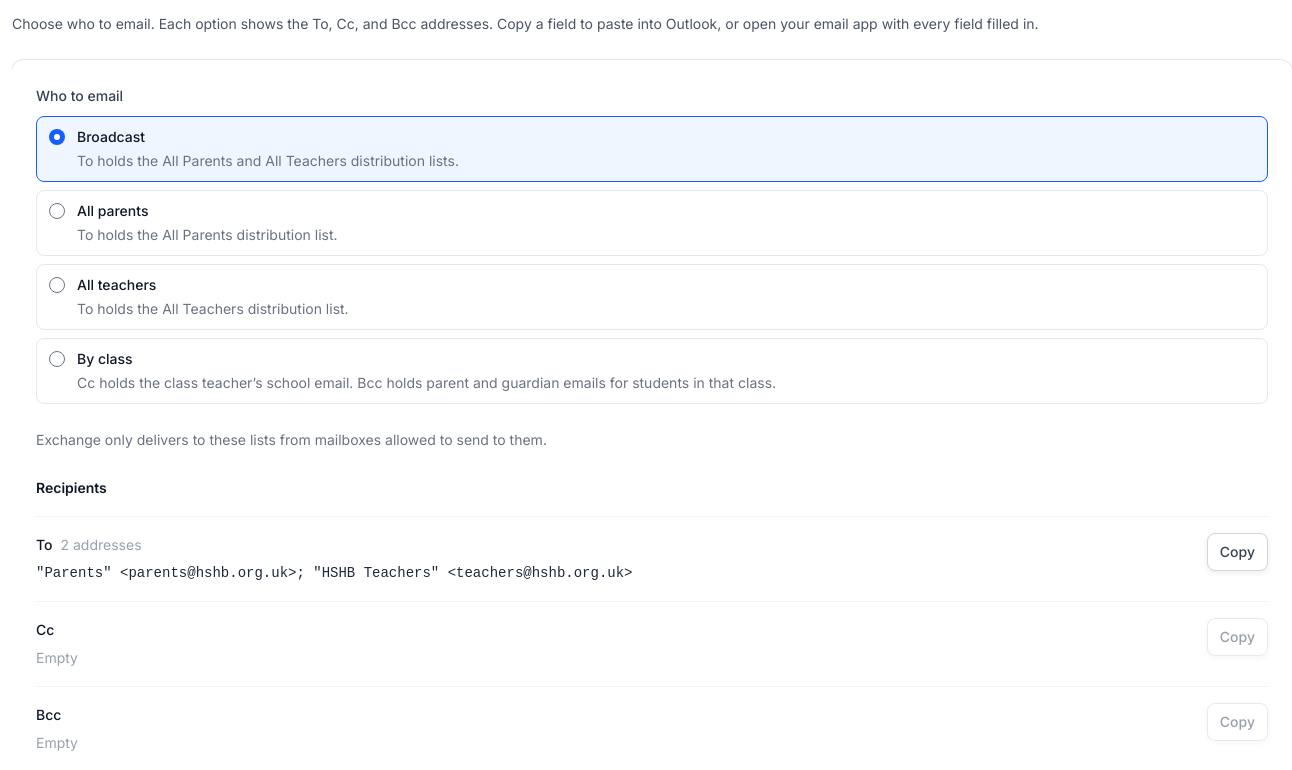
CommunicationPanel › asks for a class before offering a mailto link
The image size is (1292, 770).
Click the radio button labelled "By class".
click(57, 359)  # box [49,351,65,367]
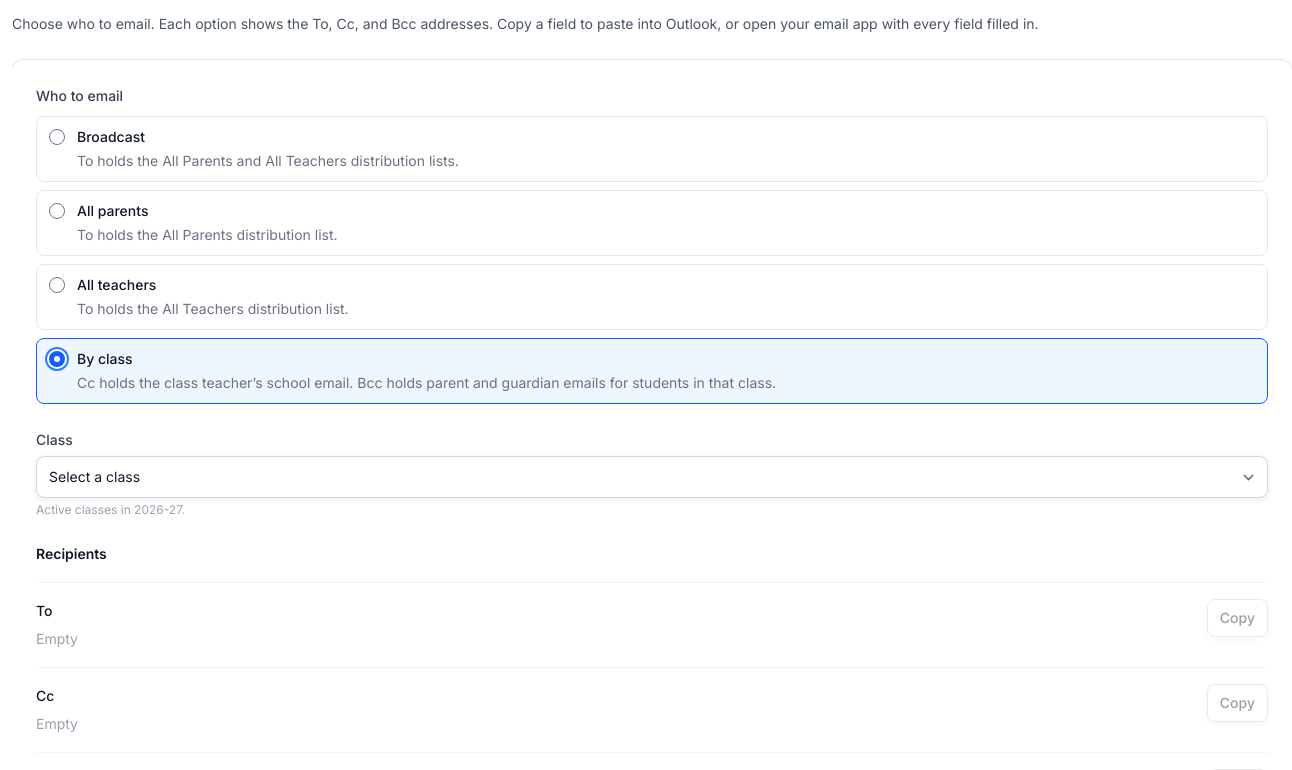
Expected: the text "Active classes in 2026-27." is shown, [36,502,185,517]
